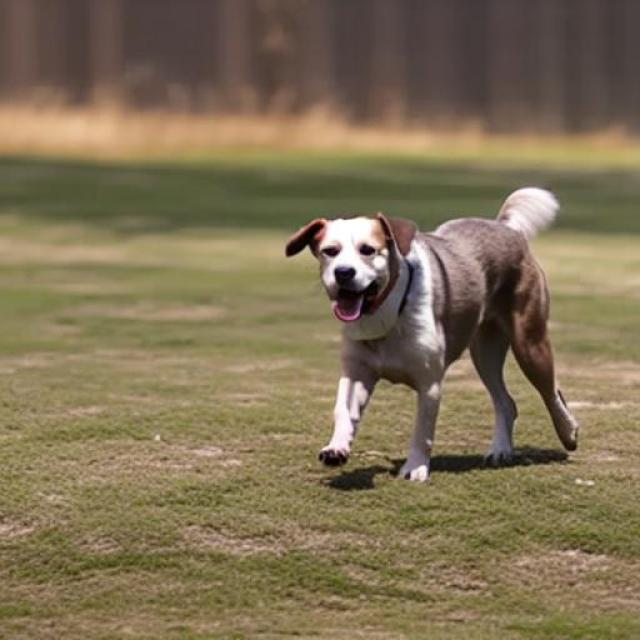Dog: (285, 187, 579, 482)
